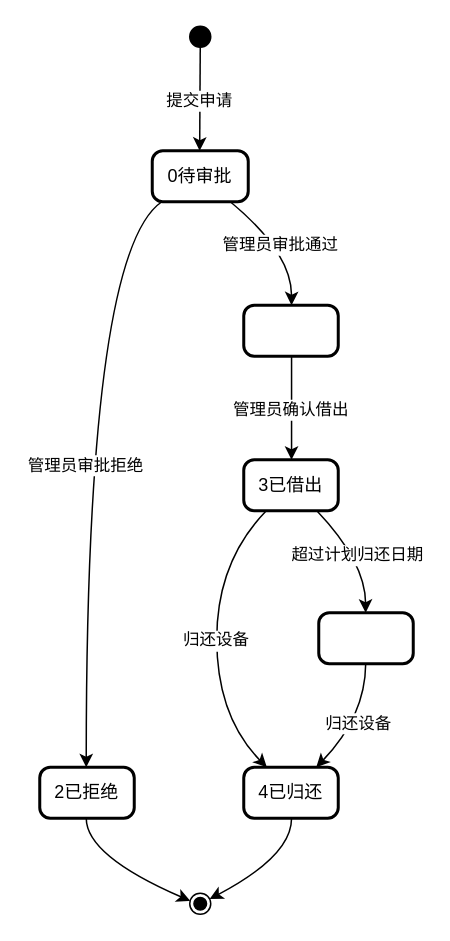
This 450x941 diagram has some shape labels left out. Here are the shapes that lost their labels. From the top down, the centre of each, then its label:
At point 290,330: "1已通过".
At point 365,637: "5已逾期".
